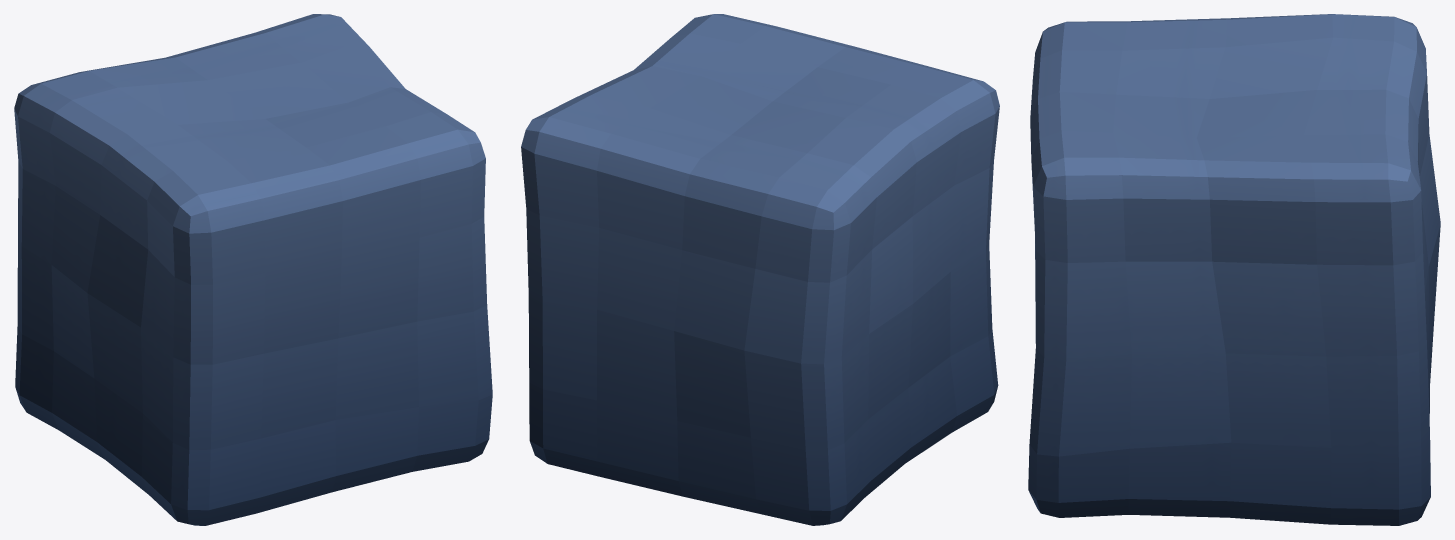
The model's file is SM_IceCube1.fbx.
3 renders of one model, left to right at view 1: azimuth 30°, elevation 25°; view 2: azimuth 150°, elevation 25°; view 3: azimuth 270°, elevation 25°, orthographic. The views are drawn at different scales.
Parts seen in each view (by area): view 1: SM_IceCube1; view 2: SM_IceCube1; view 3: SM_IceCube1.
Boxes of the visible parts, x1=… form: SM_IceCube1: x1=14, y1=14, x2=492, y2=525; SM_IceCube1: x1=521, y1=14, x2=999, y2=525; SM_IceCube1: x1=1028, y1=14, x2=1440, y2=525.
Size of the model in its own units: 206 by 206 by 207.
